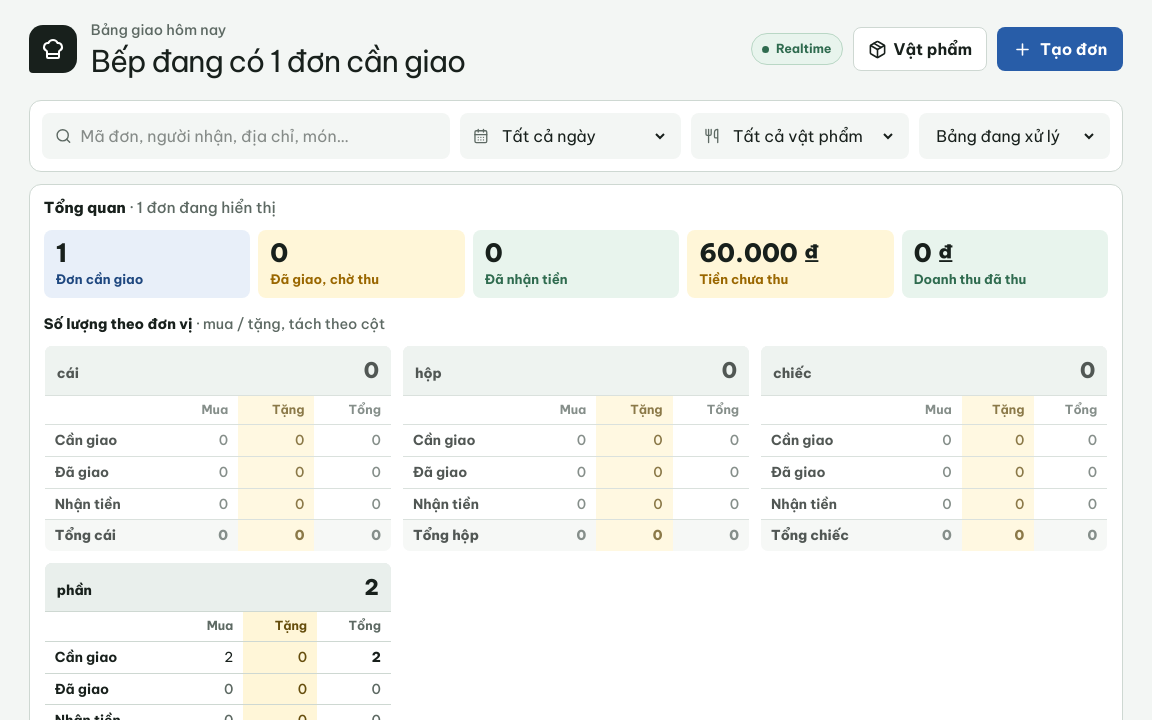
Test case: OrderBoard › opens the creation form from the primary action
Click the button "Tạo đơn": point(1060, 49) 997,27 -> 1123,71
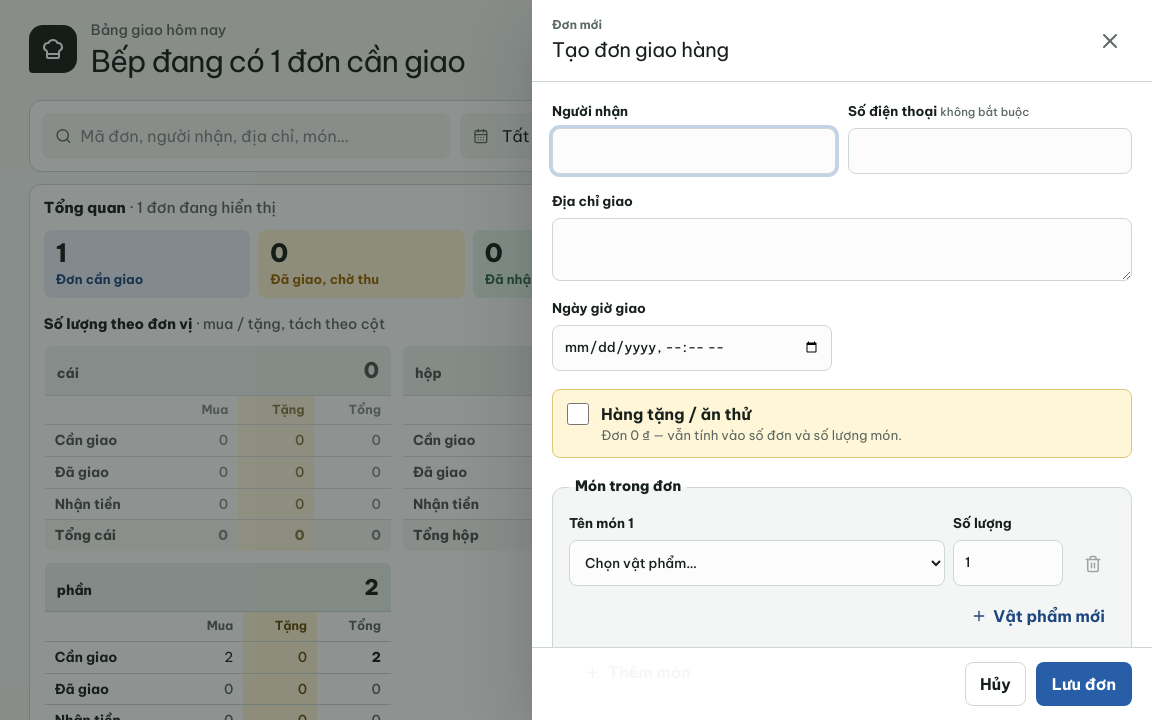
Result: the dialog "Tạo đơn giao hàng" is shown at 532,0 -> 1151,719
